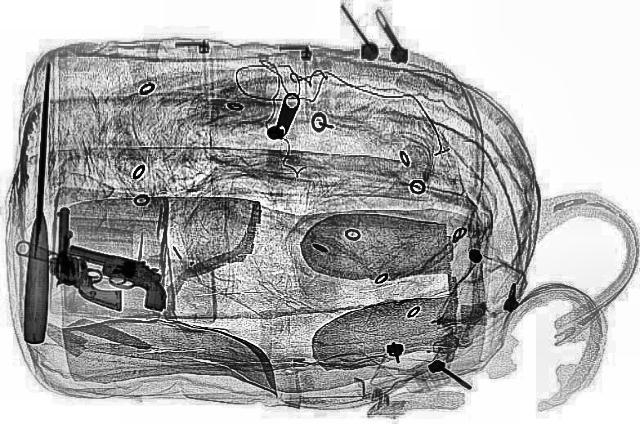Gun: (44, 242, 186, 312), (40, 207, 134, 311)
Knife: (20, 63, 58, 343)
